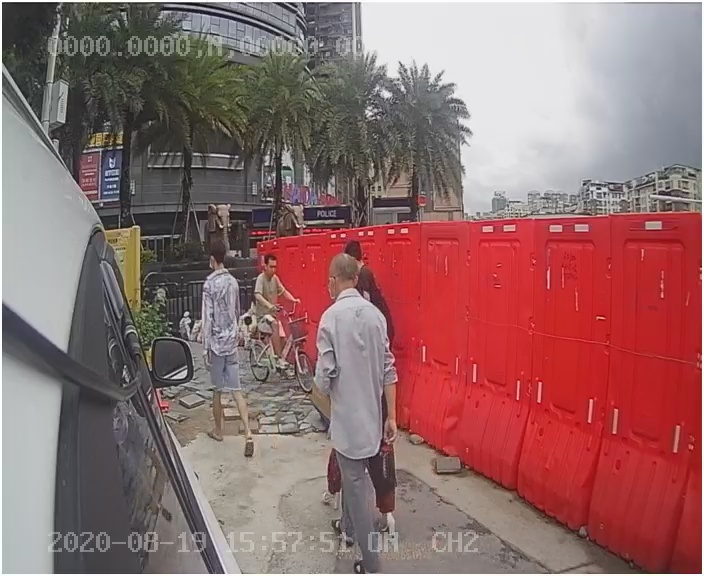person: (296, 253, 404, 523), (184, 240, 272, 462)
